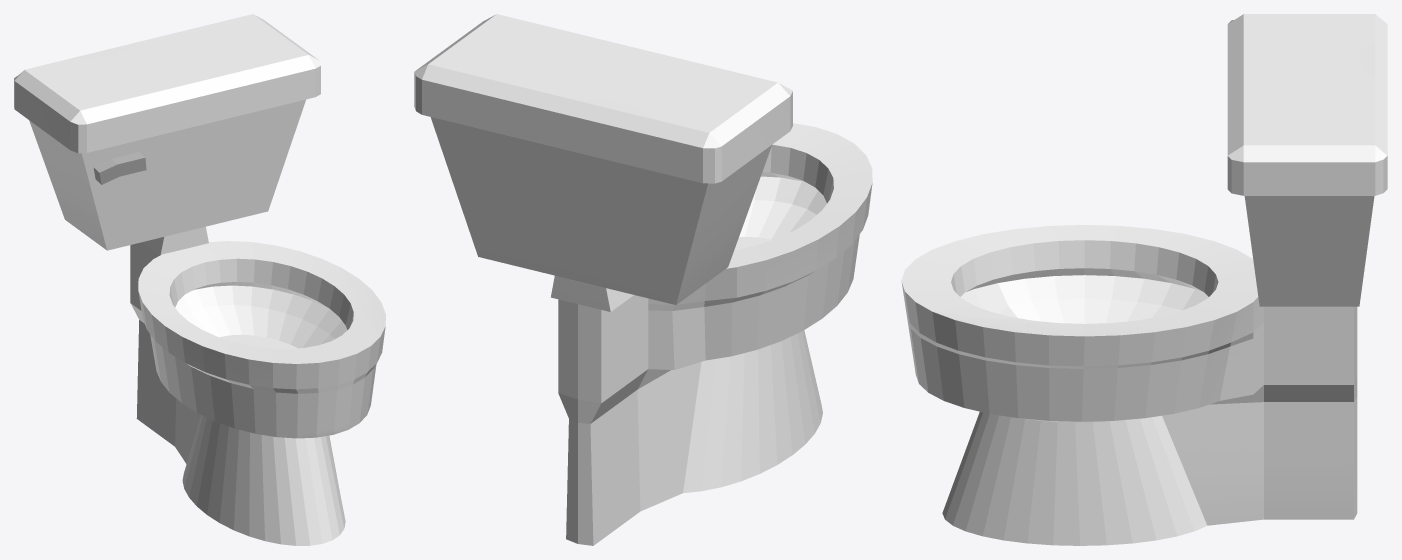
The model's file is Wc_prefab.fbx.
The picture shows the model from 3 angles, left to right: view 1: azimuth 30°, elevation 25°; view 2: azimuth 150°, elevation 25°; view 3: azimuth 270°, elevation 25°; orthographic projection. The views are drawn at different scales.
Visible parts, largest first — view 1: Cylinder; view 2: Cylinder; view 3: Cylinder.
Boxes of the visible parts, left/top/right/bottom form: Cylinder: left=14, top=14, right=385, bottom=545; Cylinder: left=414, top=14, right=872, bottom=545; Cylinder: left=901, top=14, right=1387, bottom=545.
Size of the model in its own units: 163 by 229 by 233.
Materials: 1 (1 with a texture image).
